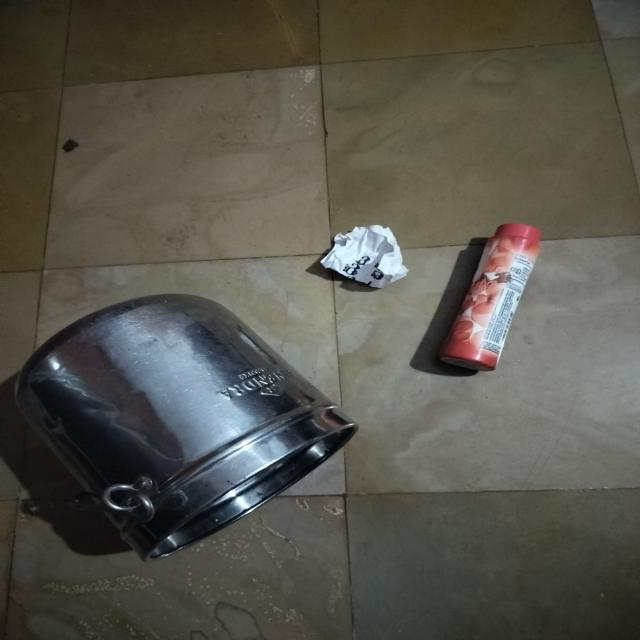metal: (12, 292, 361, 562)
paper: (316, 225, 411, 289)
plastic: (436, 224, 544, 373)
